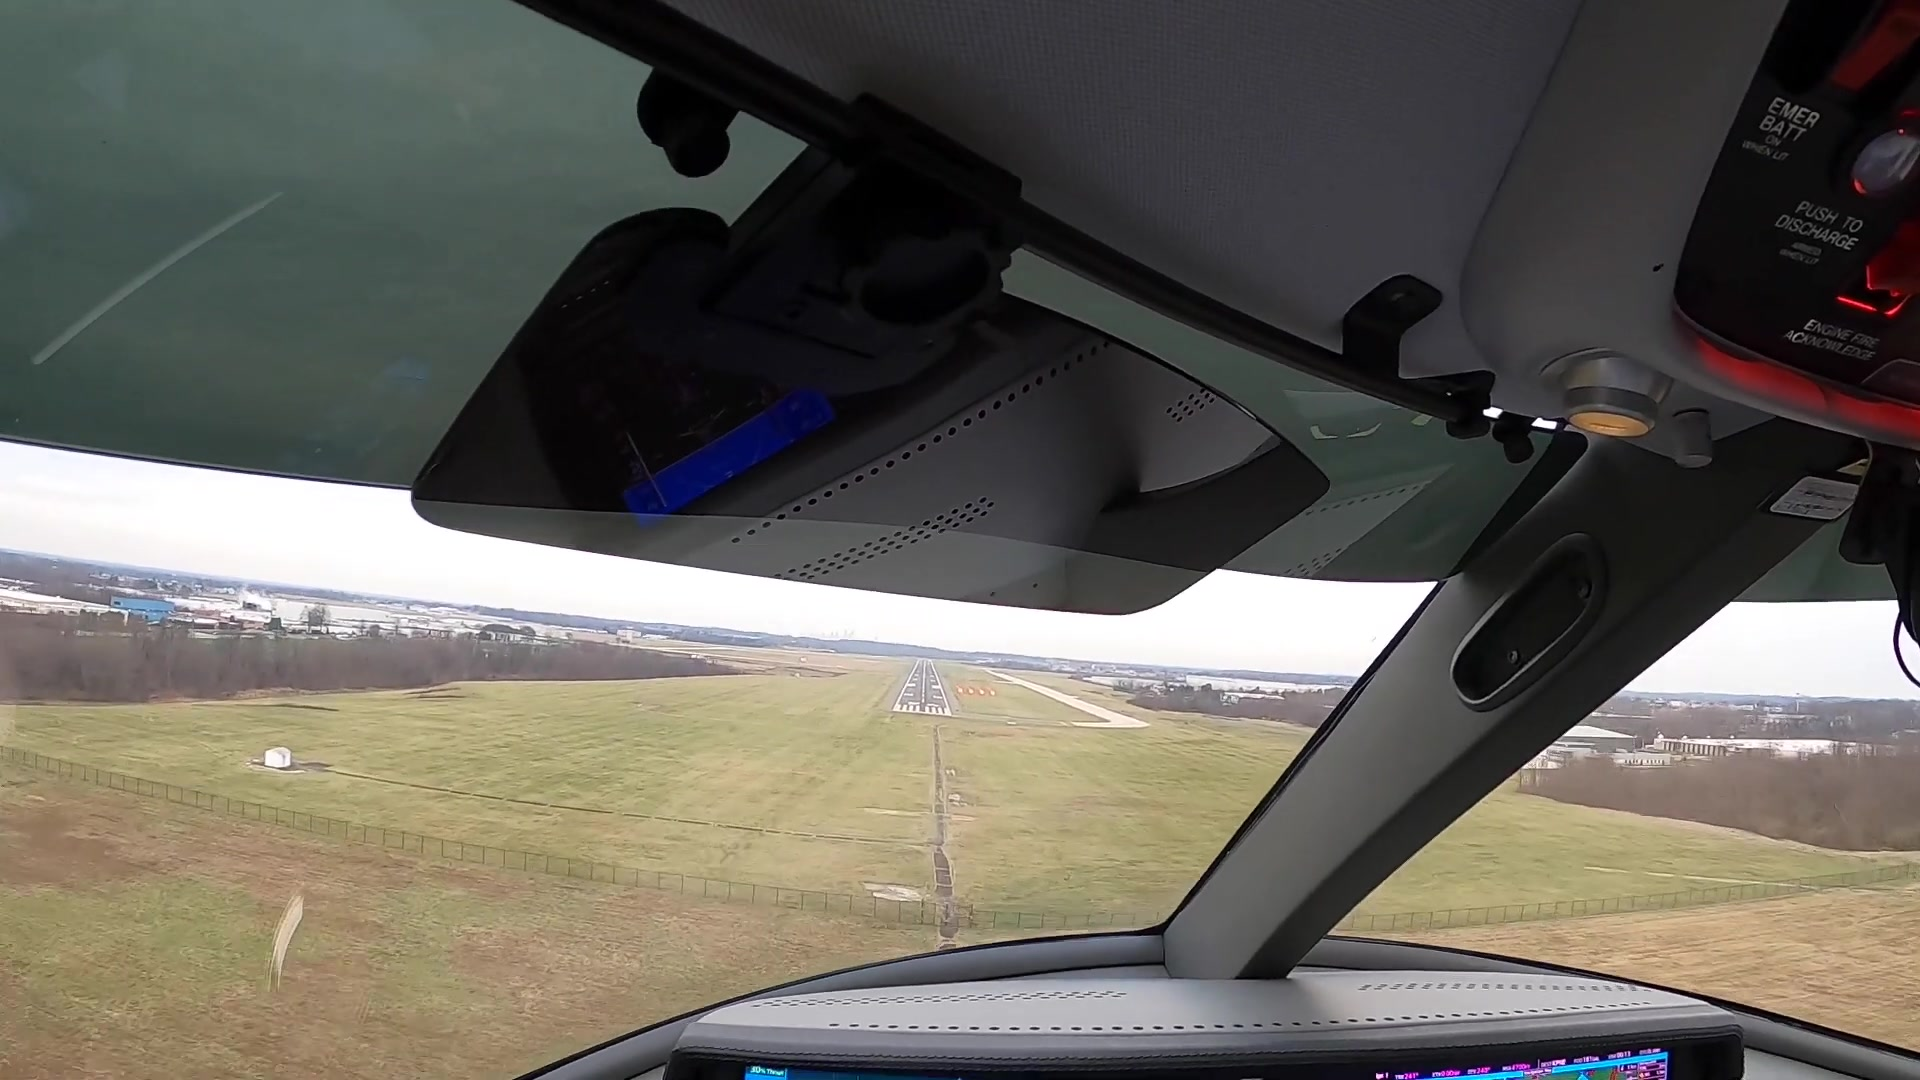entrance: (891, 702, 951, 716)
runway: (889, 657, 955, 717)
